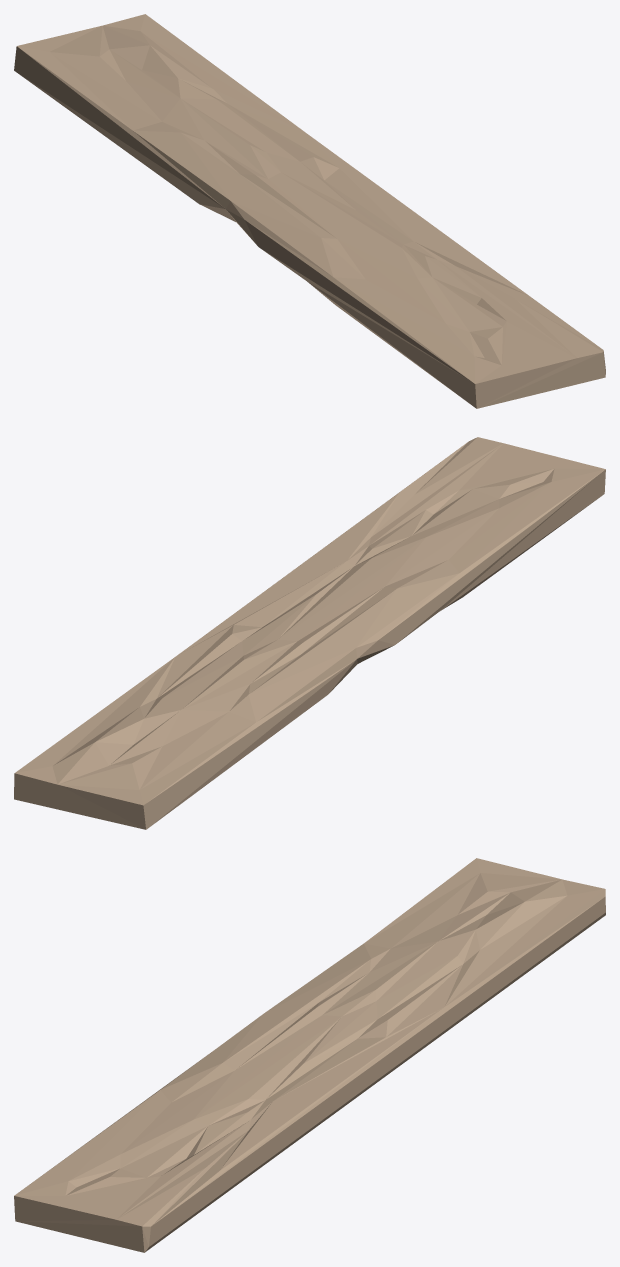
File: SM_plank_01.fbx
The picture shows the model from 3 angles, top to bottom: view 1: azimuth 30°, elevation 25°; view 2: azimuth 150°, elevation 25°; view 3: azimuth 330°, elevation 25°; orthographic projection.
Parts seen in each view (by area): view 1: plank_01; view 2: plank_01; view 3: plank_01.
Boxes of the visible parts, x1=… form: plank_01: x1=14, y1=14, x2=605, y2=408; plank_01: x1=14, y1=437, x2=605, y2=829; plank_01: x1=14, y1=858, x2=605, y2=1252.
Bounding box in the file's own units: 47.54 × 13.22 × 279.
